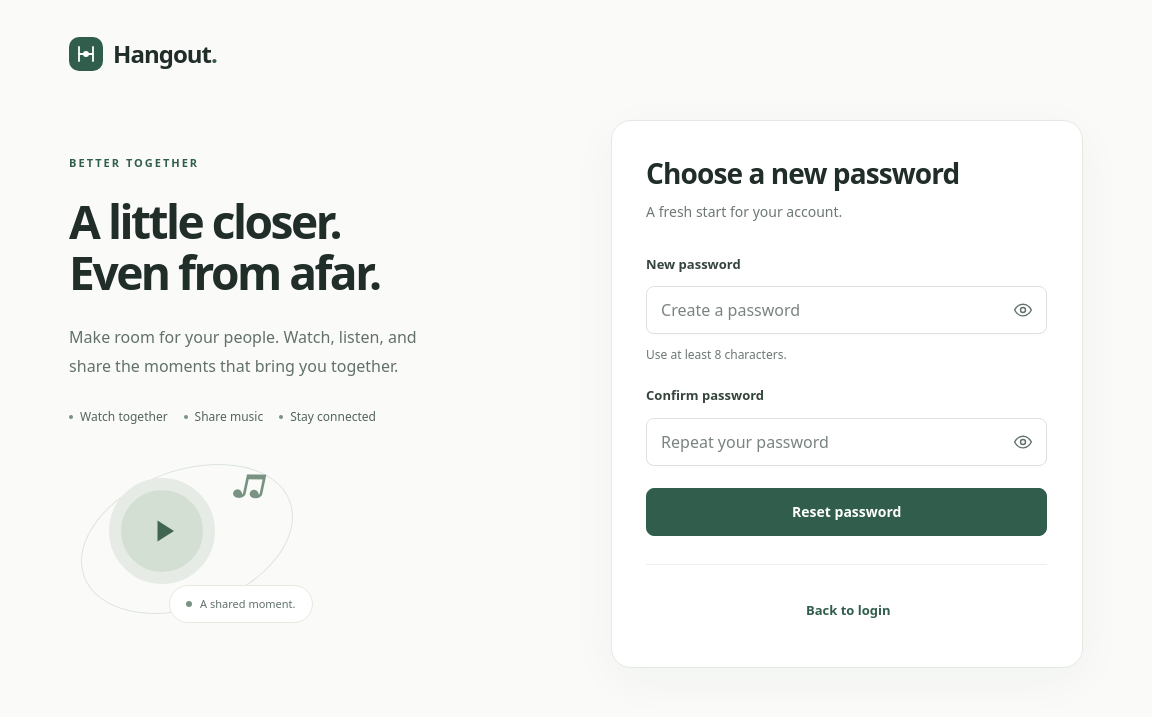
it: checks matching passwords and submits the token with the new password
The width and height of the screenshot is (1152, 717).
Type "newpassword123" into the password field labelled "New password".
click(847, 310); type("newpassword123")  # box top-left (646, 286), bottom-right (1047, 334)
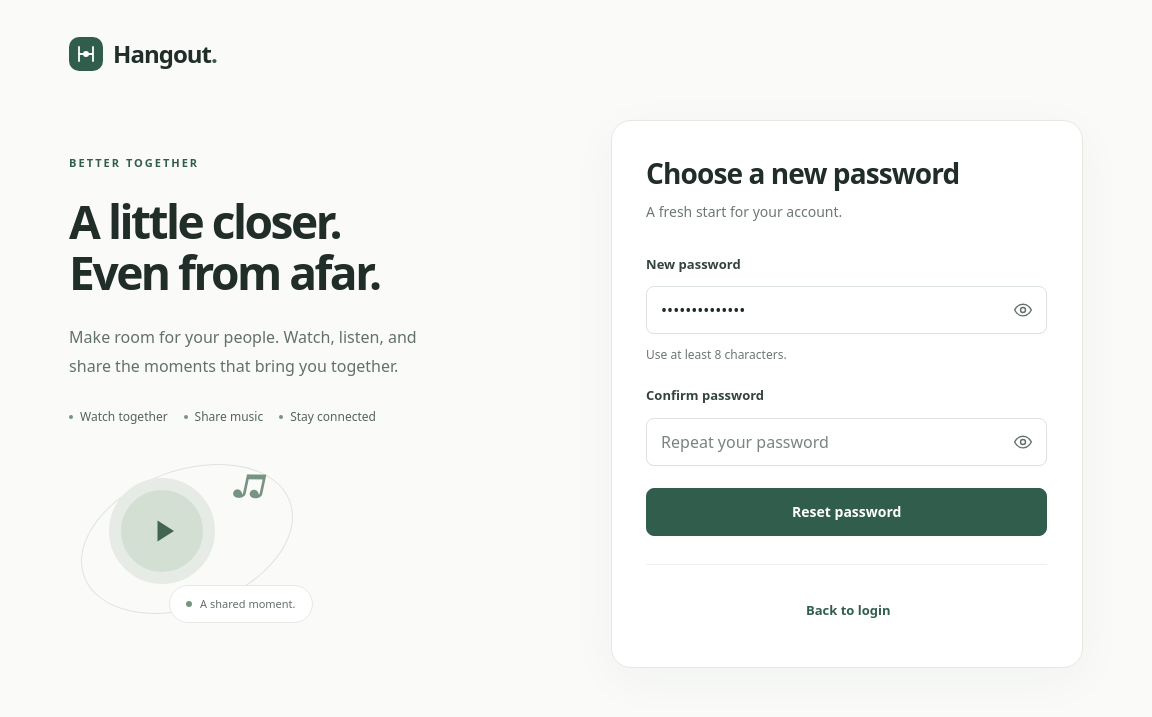
Type "different123" into the password field labelled "Confirm password".
click(847, 442); type("different123")  # box top-left (646, 418), bottom-right (1047, 466)
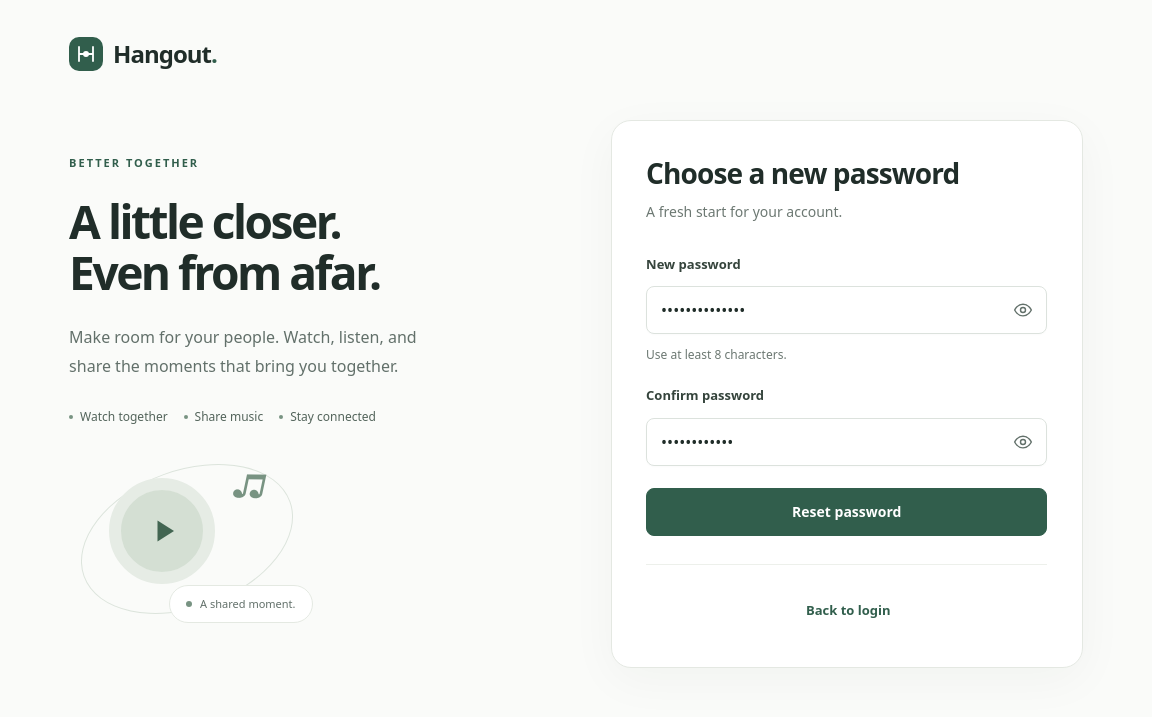
Click the button "Reset password".
click(847, 512)  # box top-left (646, 488), bottom-right (1047, 536)
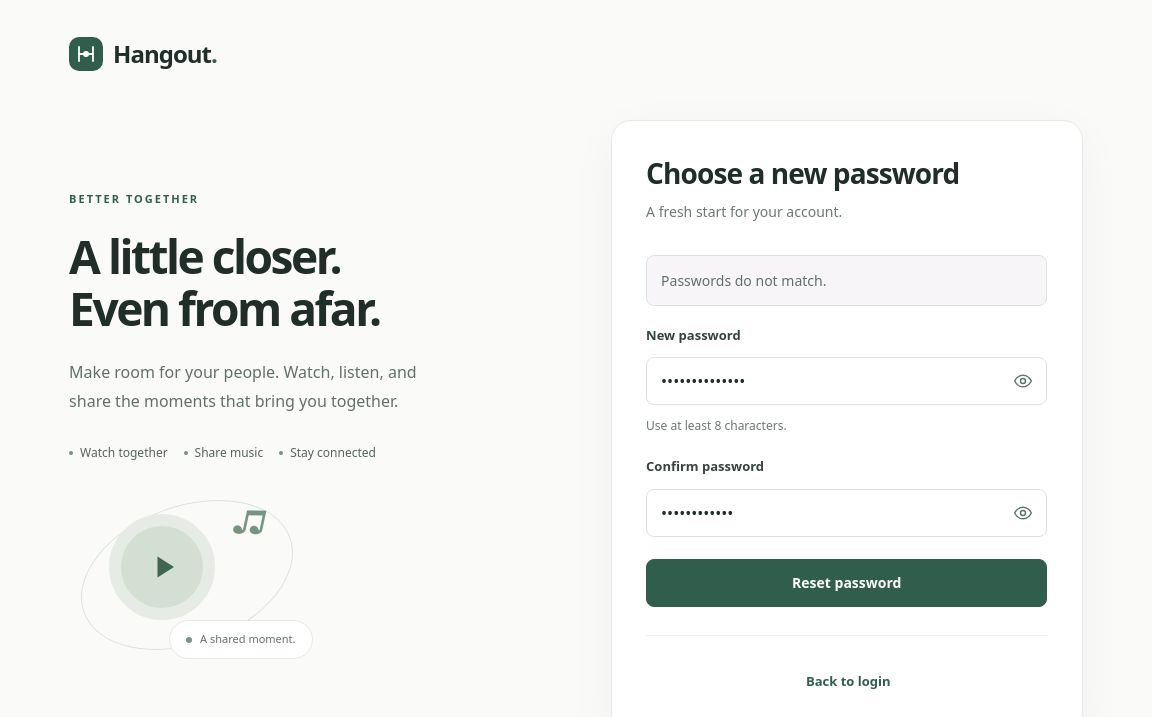
Result: the message shows "do not match" at top-left (661, 271), bottom-right (826, 290)
Type "newpassword123" into the password field labelled "Confirm password".
click(847, 513); type("newpassword123")  # box top-left (646, 489), bottom-right (1047, 537)
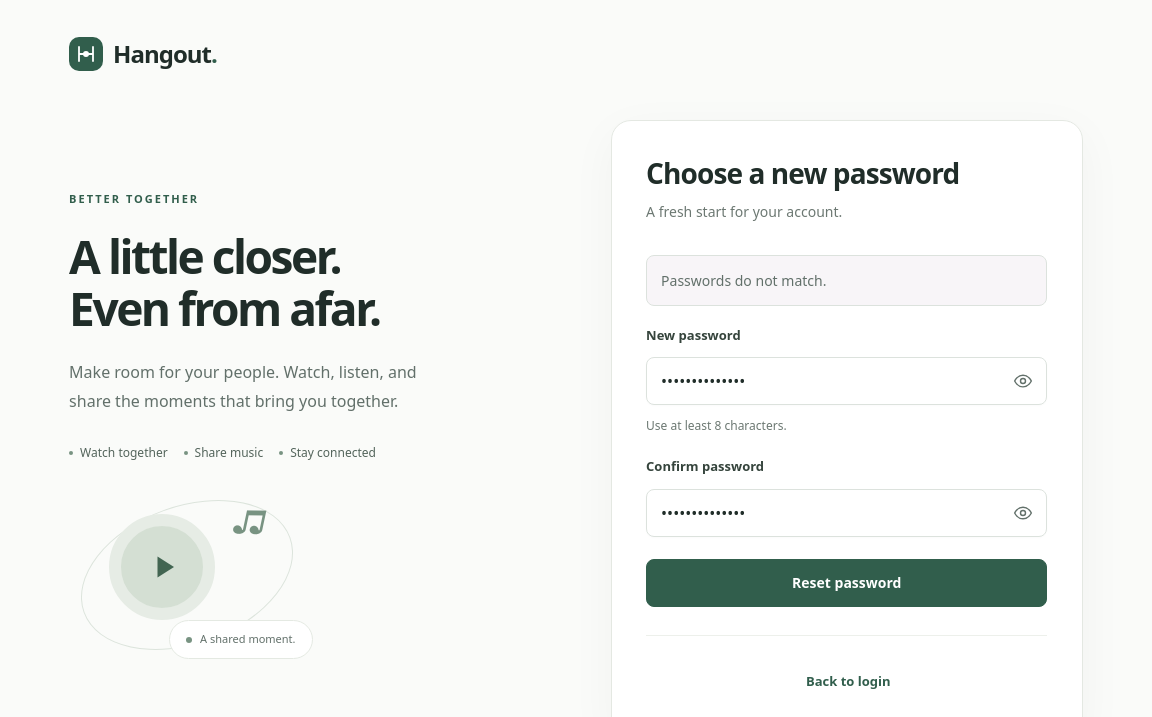
Click the button "Reset password".
click(847, 583)  # box top-left (646, 559), bottom-right (1047, 607)
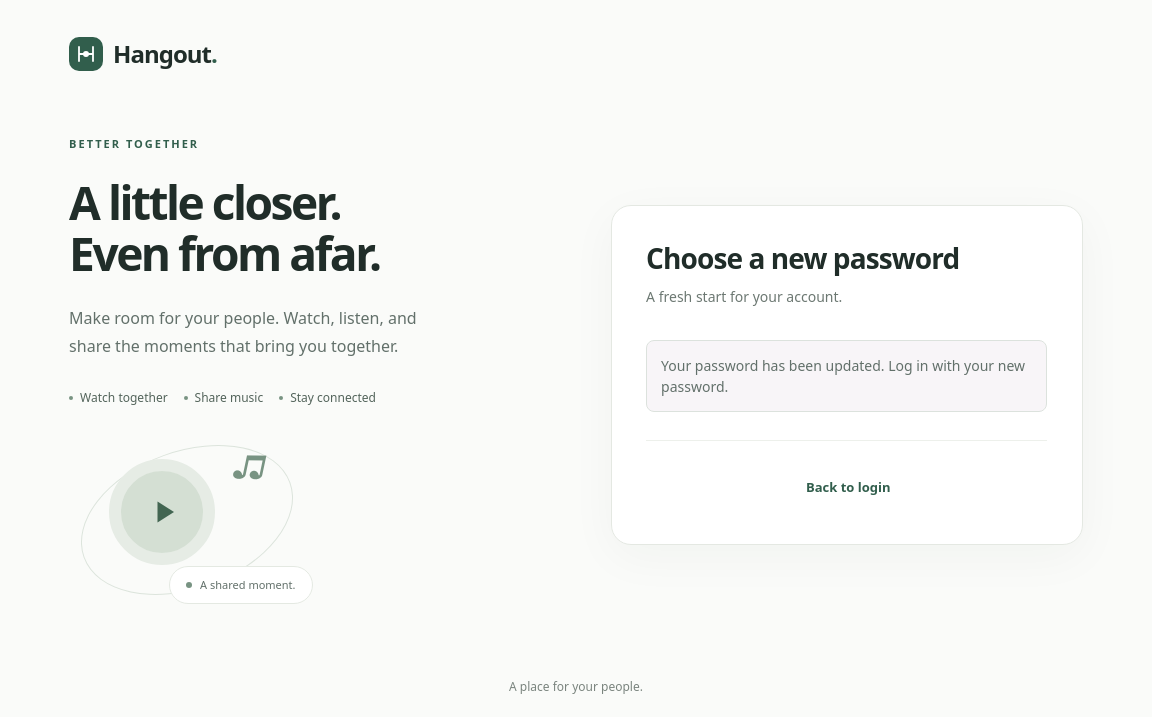
Result: the message shows "password has been updated" at top-left (661, 356), bottom-right (1025, 396)
